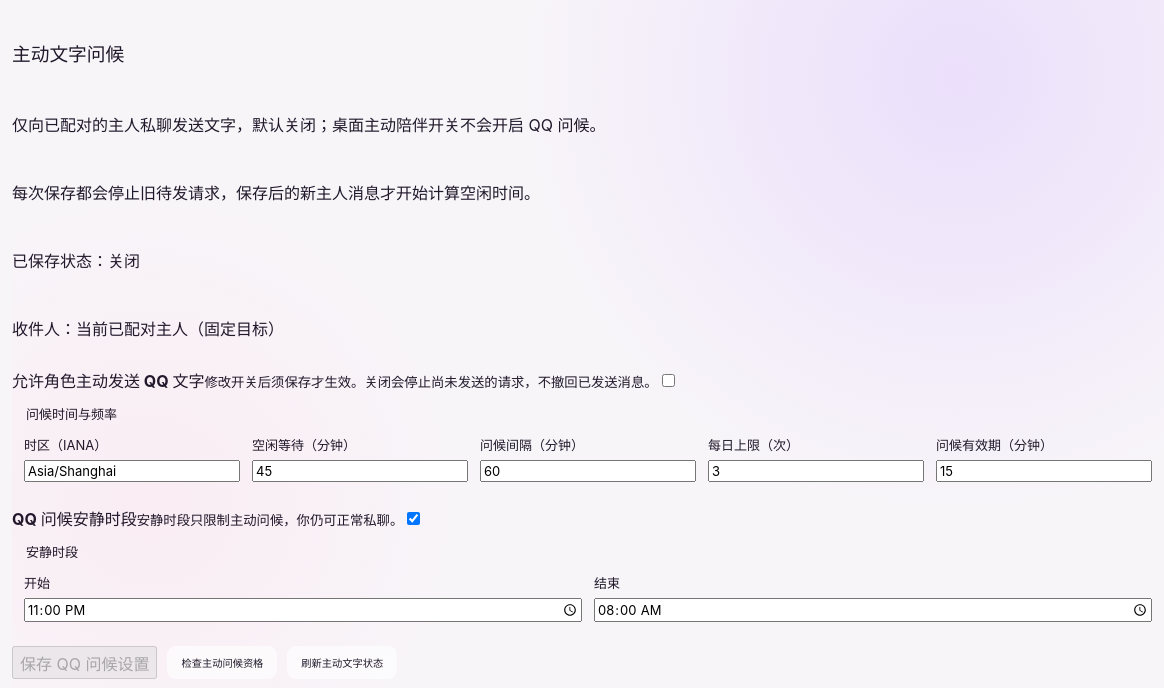
Scenario: QQ proactive operator panel › rejects invalid draft 问候有效期（分钟） without a write
expect the switch labelled "允许角色主动发送 QQ 文字" is enabled: met, box left=662, top=374, right=675, bottom=387
Replace the text in the number field labelled "问候有效期（分钟）" with "61" at (1044, 471), box left=936, top=460, right=1152, bottom=482
(page scrolled)
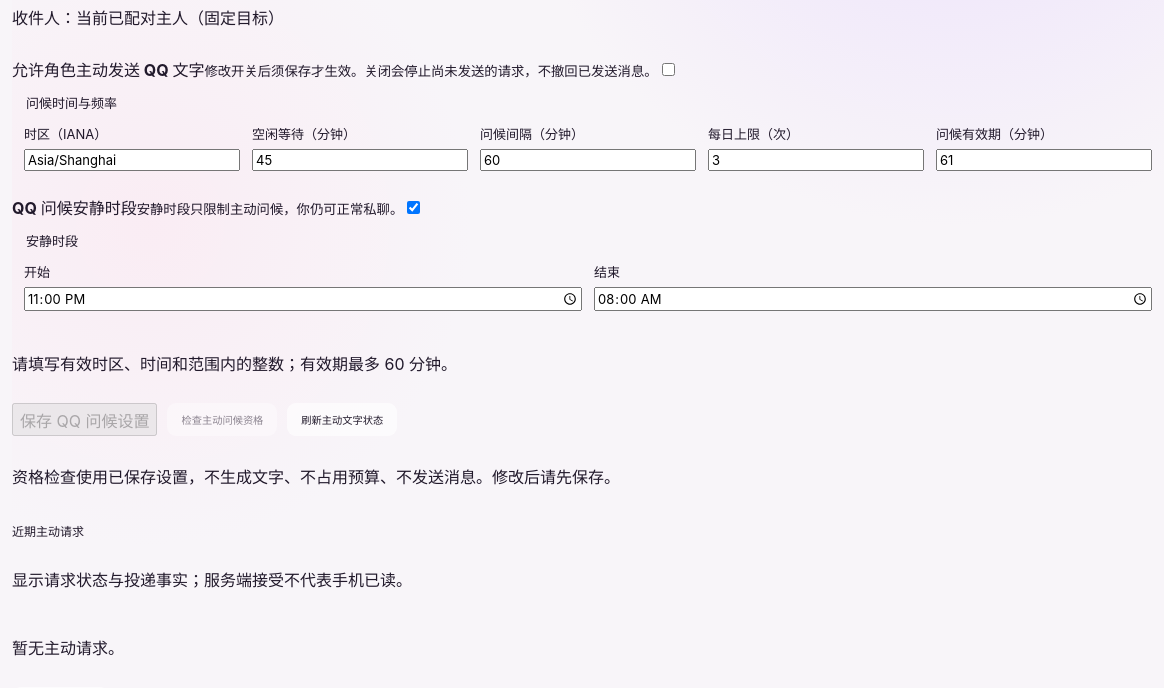
expect the button "保存 QQ 问候设置" is disabled: met, box left=12, top=403, right=158, bottom=436
expect the button "检查主动问候资格" is disabled: met, box left=168, top=403, right=277, bottom=436
